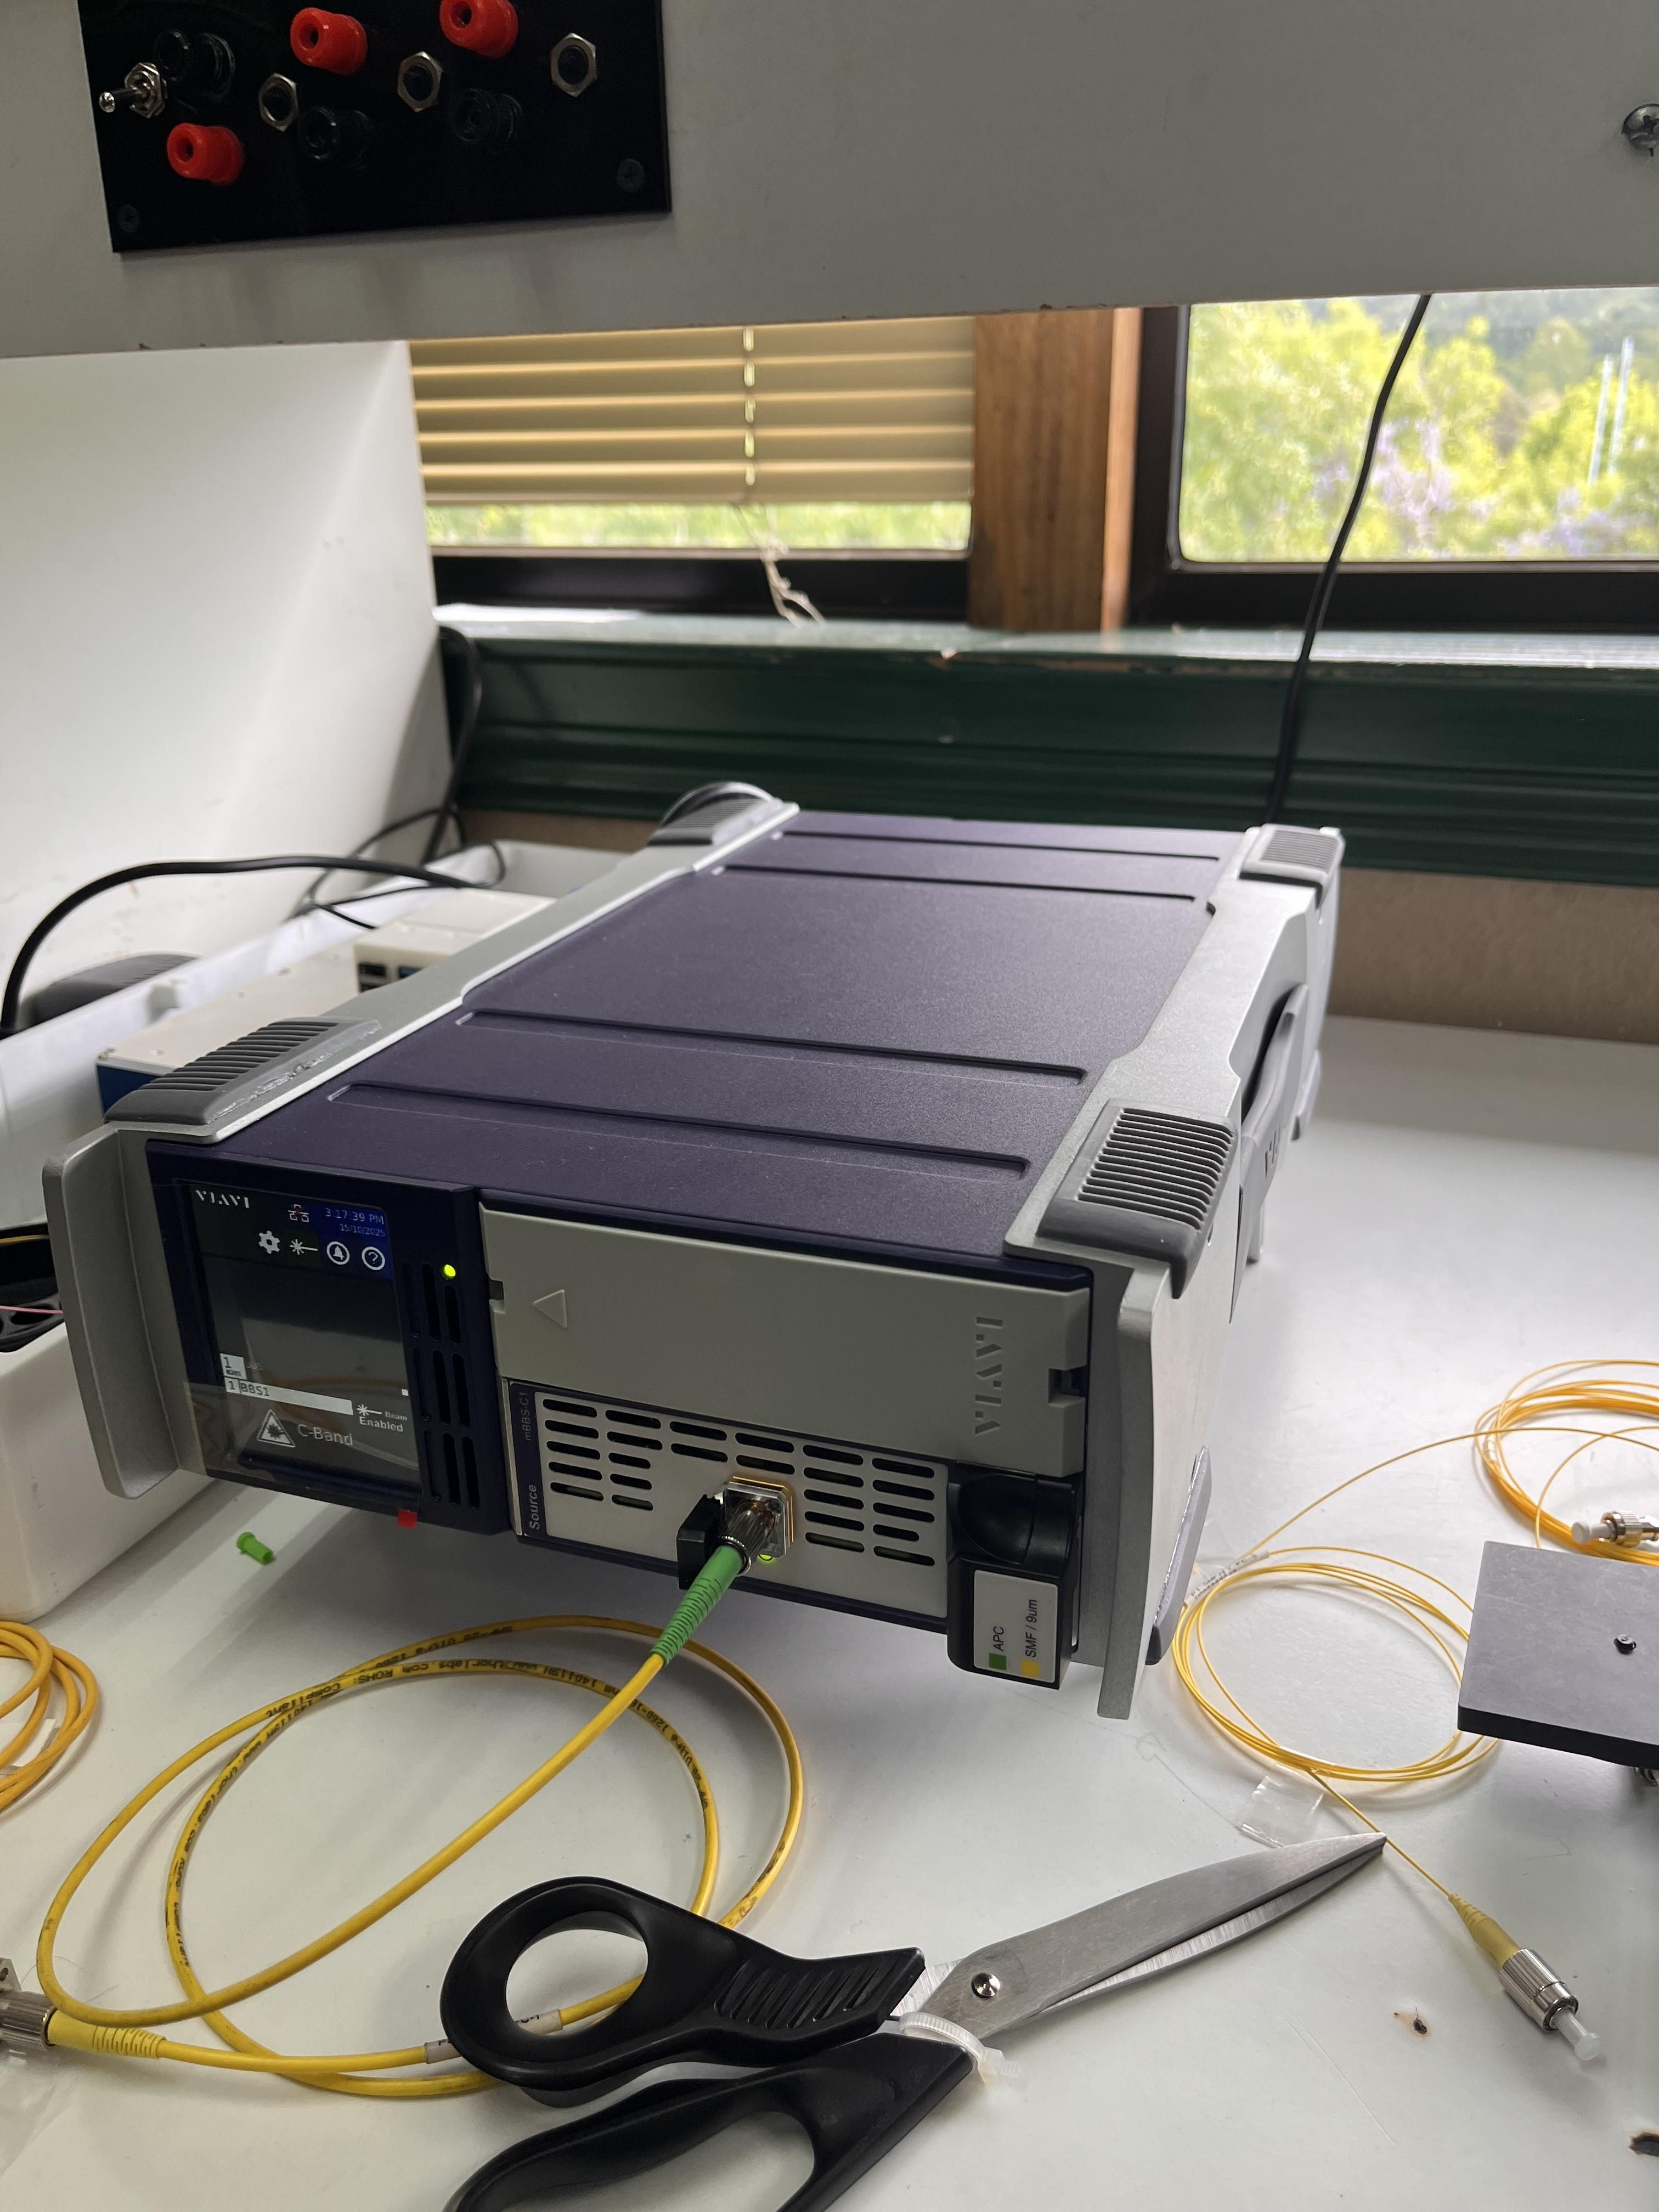fiber_cable: (0, 1474, 848, 2111)
laser: (33, 782, 1363, 1734)
